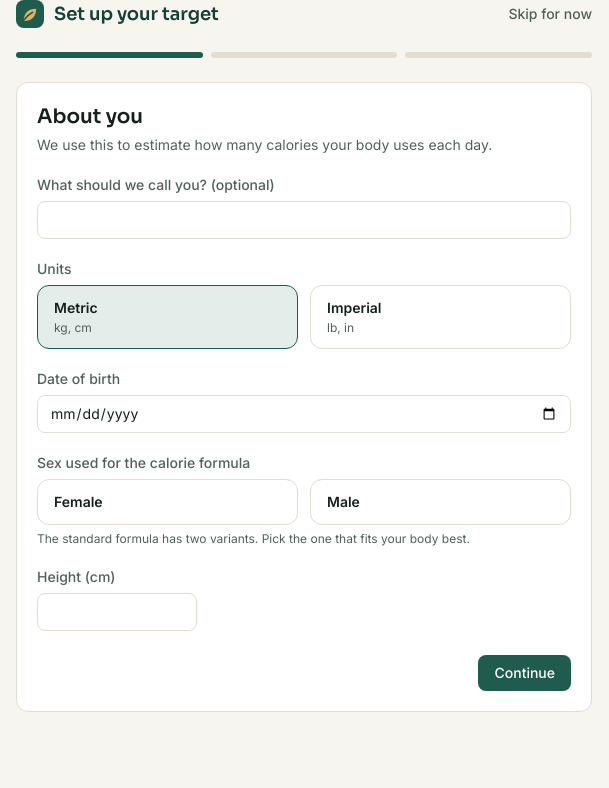
Scenario: setup wizard › warns about very low targets
Expected: the heading "About you" is shown, [37, 104, 143, 129]
Type "1998-04-12" into the date field labelled "Date of birth" at (304,414), box [37, 395, 571, 433]
Click the button "Male" at (343,502), box [310, 479, 571, 525]
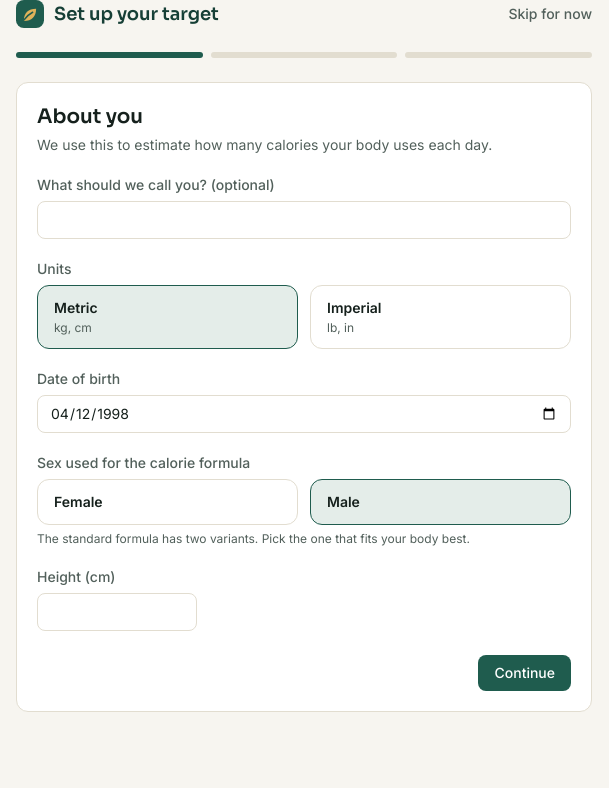
Type "178" into the number field labelled "Height (cm)" at (117,612), box [37, 593, 197, 631]
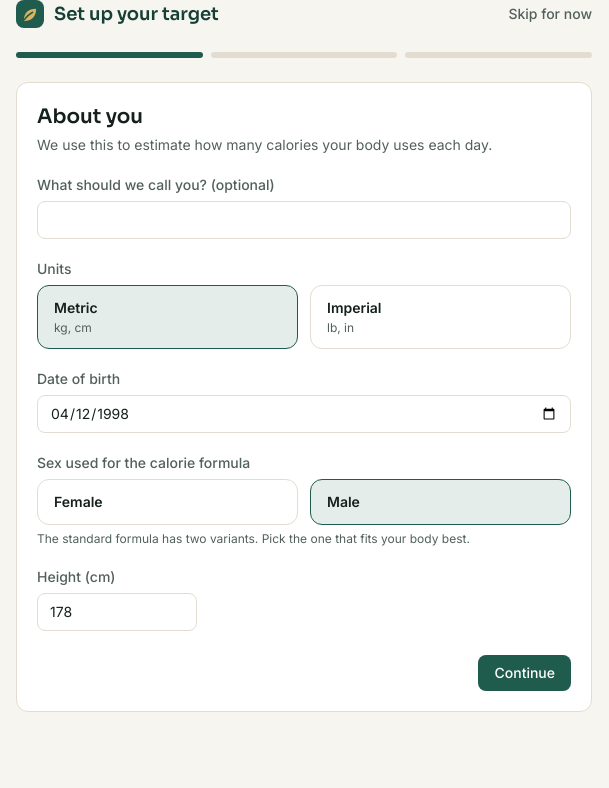
Click the button "Continue" at (525,673), box [478, 655, 571, 691]
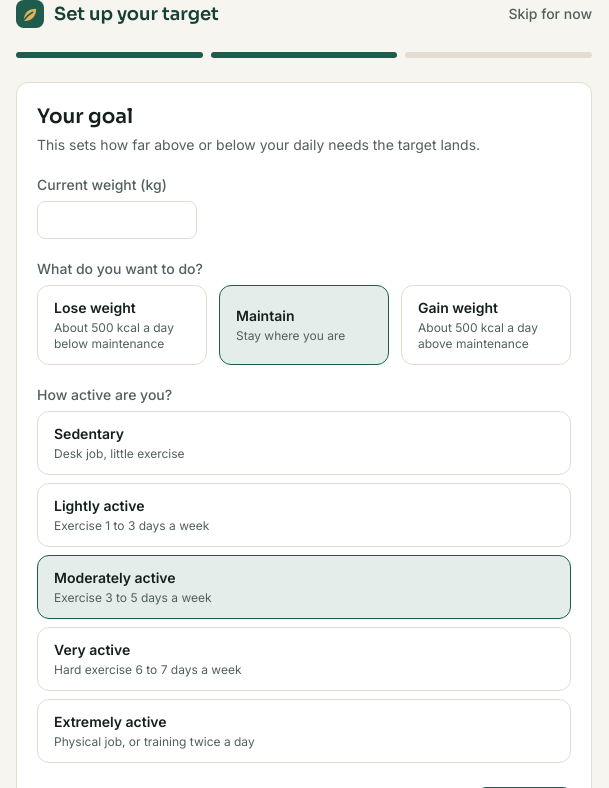
Now the heading "Your goal" is shown, box [37, 104, 133, 129]
Type "82" into the number field labelled "Current weight (kg)" at (117,220), box [37, 201, 197, 239]
(page scrolled)
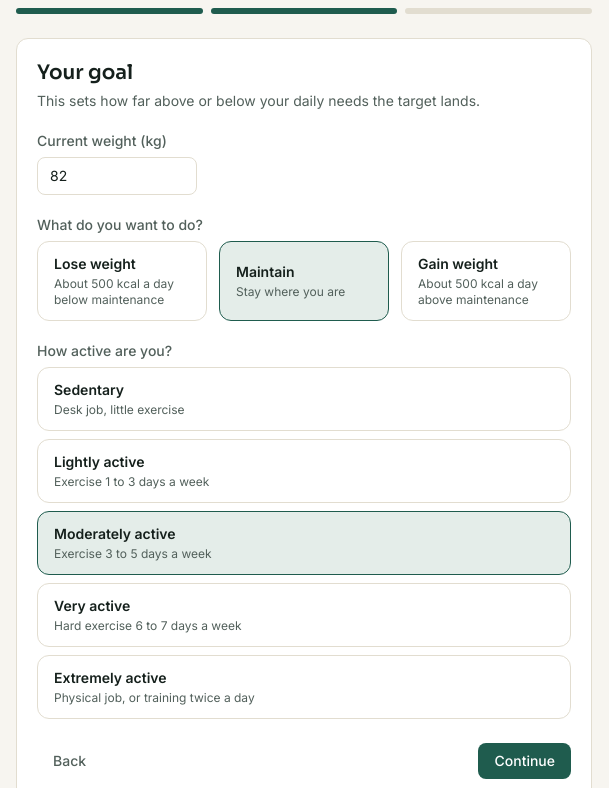
Click the button "Continue" at (525,761), box [478, 743, 571, 779]
(page scrolled)
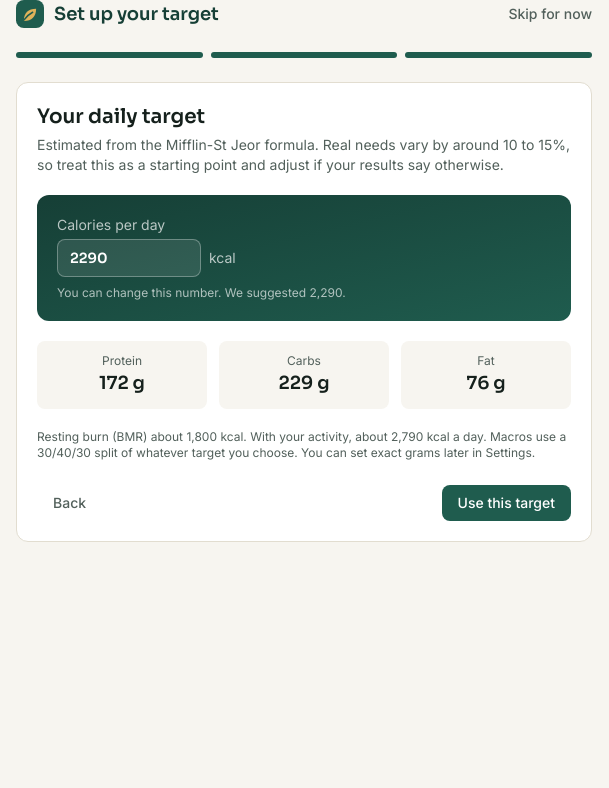
Now the heading "Your daily target" is shown, box [37, 104, 205, 129]
Replace the text in the number field named "Daily calorie target" with "1000" at (129,258), box [57, 239, 201, 277]
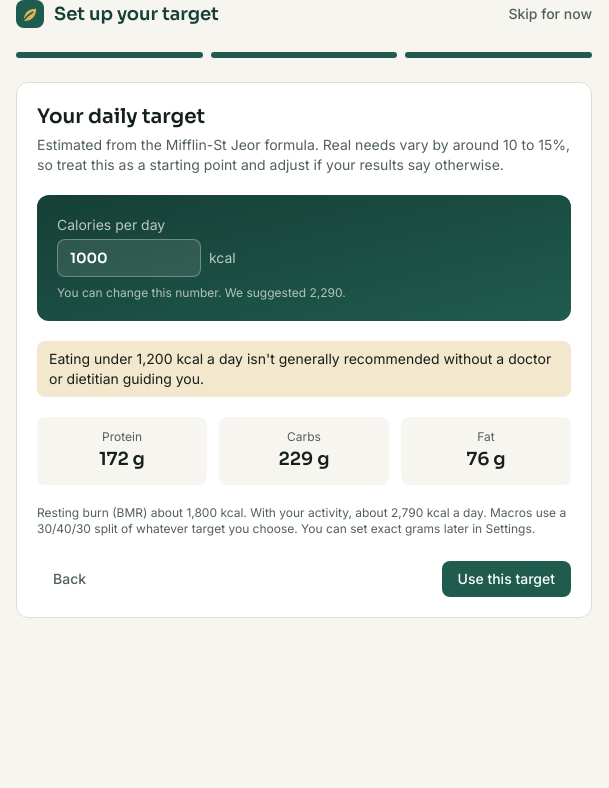
Now the text "isn't generally recommended" is shown, box [49, 350, 551, 387]
